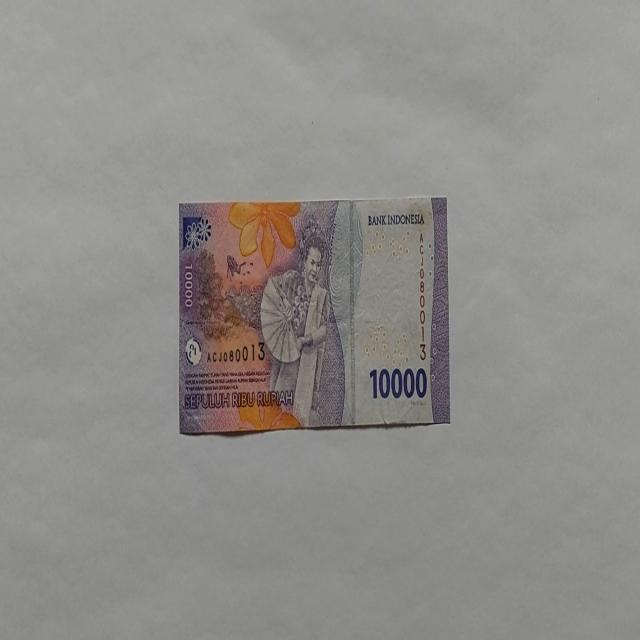sepuluh ribu rupiah: (178, 196, 450, 436)
